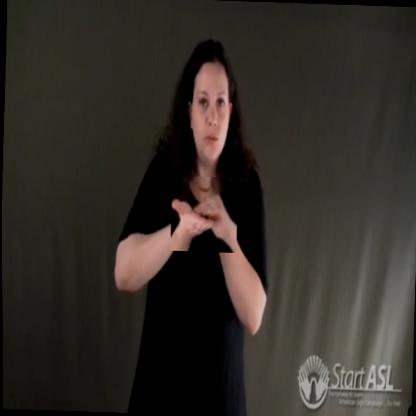ExcuseMe: (170, 176, 238, 253)
